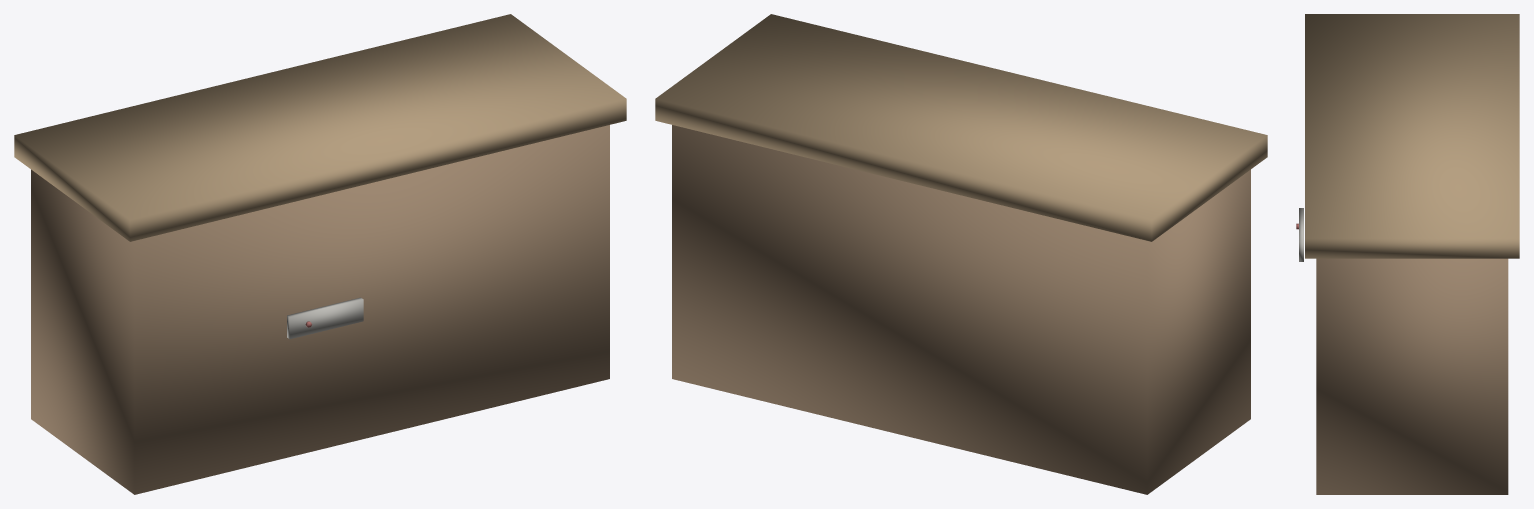
The model's file is pawn_counter__reinforced.glb.
3 views of the same model, side by side, from view 1: azimuth 30°, elevation 25°; view 2: azimuth 150°, elevation 25°; view 3: azimuth 270°, elevation 25° (orthographic). The views are drawn at different scales.
Parts seen in each view (by area): view 1: world; view 2: world; view 3: world.
Boxes of the visible parts, x1,y1,x2,y2 form: world: (14, 14, 626, 494); world: (655, 14, 1267, 494); world: (1296, 14, 1519, 494).
Size of the model in its own units: 1.94 by 1.05 by 0.8147.
